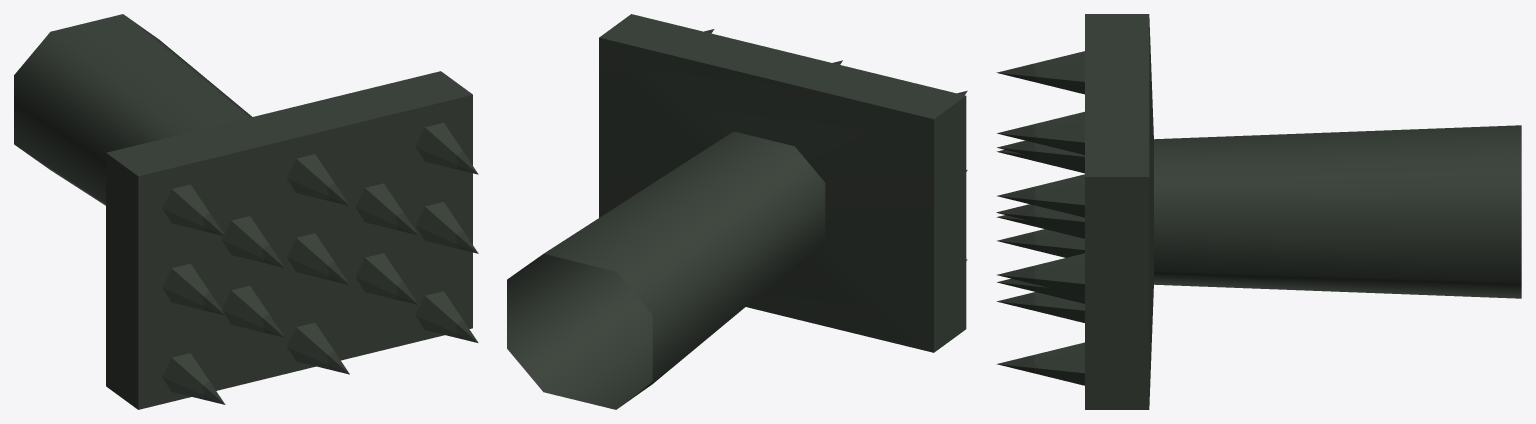
The model's file is trap_spikeWall.fbx.
The picture shows the model from 3 angles, left to right: view 1: azimuth 30°, elevation 25°; view 2: azimuth 150°, elevation 25°; view 3: azimuth 270°, elevation 25°; orthographic projection.
Parts seen in each view (by area): view 1: decoSpike14; view 2: decoSpike14; view 3: decoSpike14.
Part boxes in pixels (box(x1,y1,x2,y2)): decoSpike14: box(14, 14, 478, 409); decoSpike14: box(507, 14, 967, 409); decoSpike14: box(996, 14, 1521, 409).
Size of the model in its own units: 6 by 4 by 8.18.
